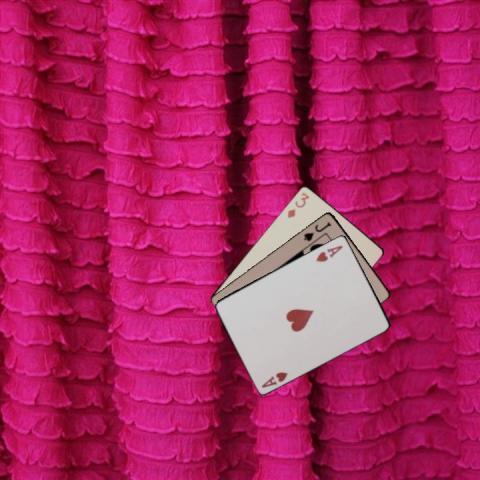3d: (284, 190, 310, 220)
Ah: (313, 242, 344, 263), (259, 368, 289, 389)
Js: (300, 218, 332, 243)
